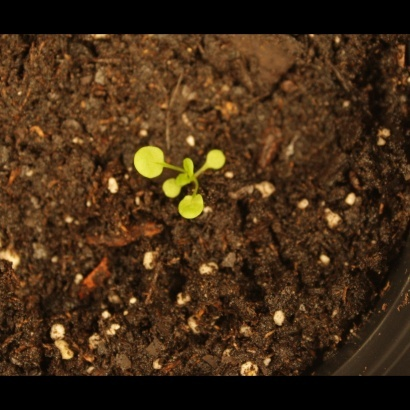leaf: (132, 141, 166, 181), (203, 144, 230, 175), (177, 194, 208, 221), (160, 179, 183, 202), (178, 156, 201, 179)
